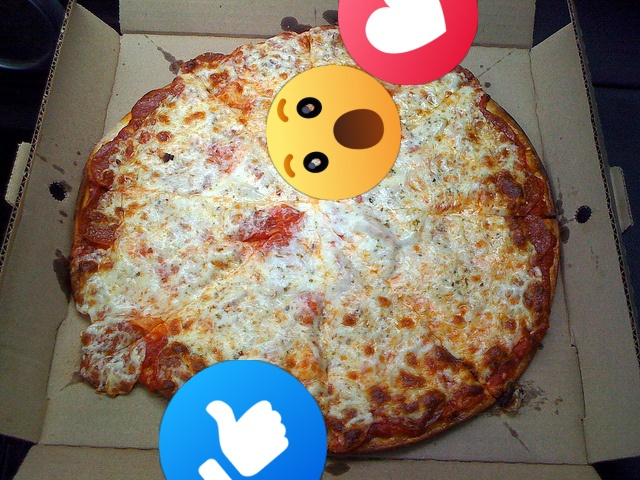like: (159, 360, 327, 480)
love: (338, 0, 478, 85)
wow: (266, 65, 401, 200)
